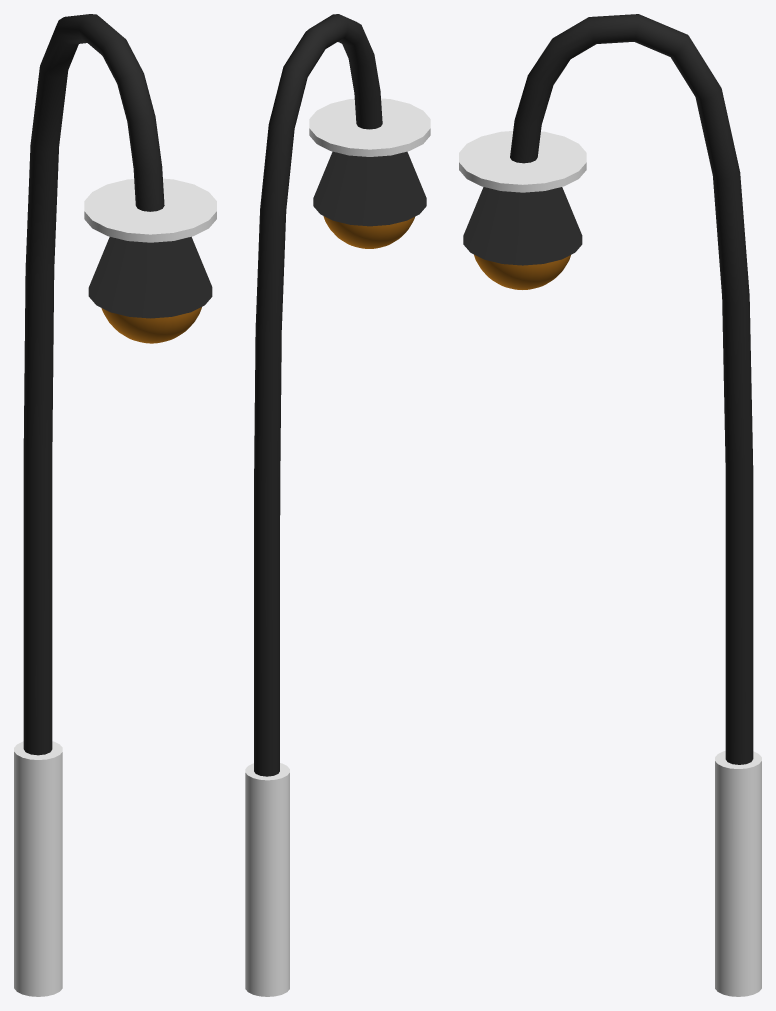
File: Streetlamp.gltf
The picture shows the model from 3 angles, left to right: view 1: azimuth 30°, elevation 25°; view 2: azimuth 150°, elevation 25°; view 3: azimuth 270°, elevation 25°; orthographic projection. The views are drawn at different scales.
Parts seen in each view (by area): view 1: node-0; view 2: node-0; view 3: node-0.
Part boxes in pixels (<box>): node-0: <box>14,14,216,996</box>; node-0: <box>245,14,430,996</box>; node-0: <box>459,14,761,996</box>.
Bounding box in the file's own units: 10435 × 86399 × 24400.
